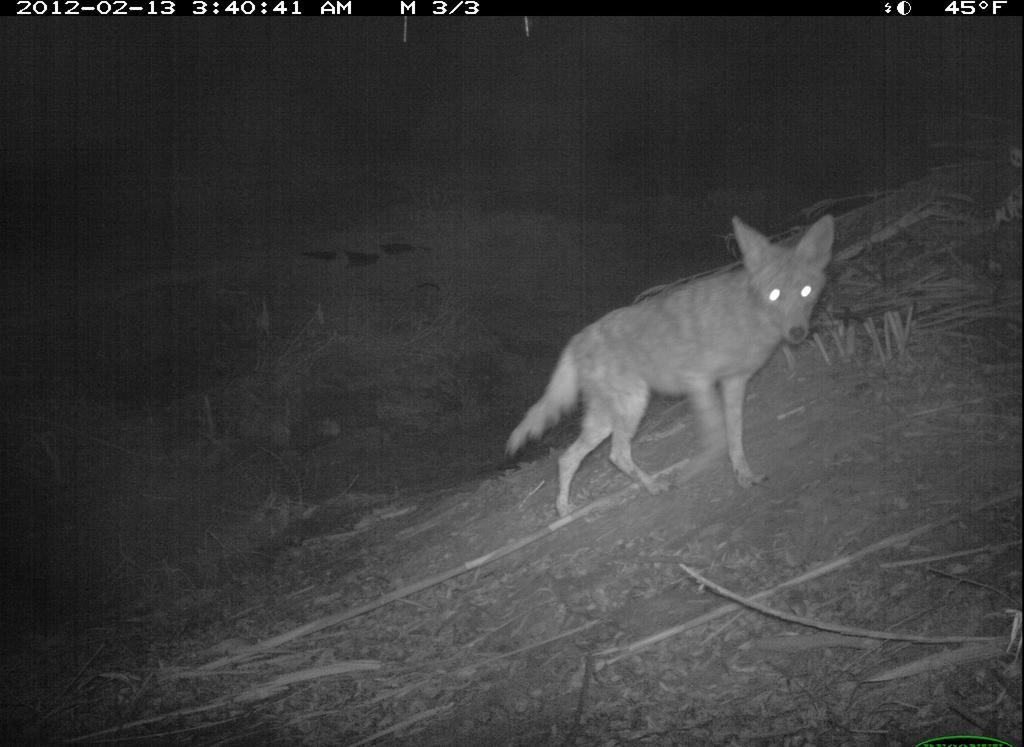coyote: (498, 208, 844, 519)
